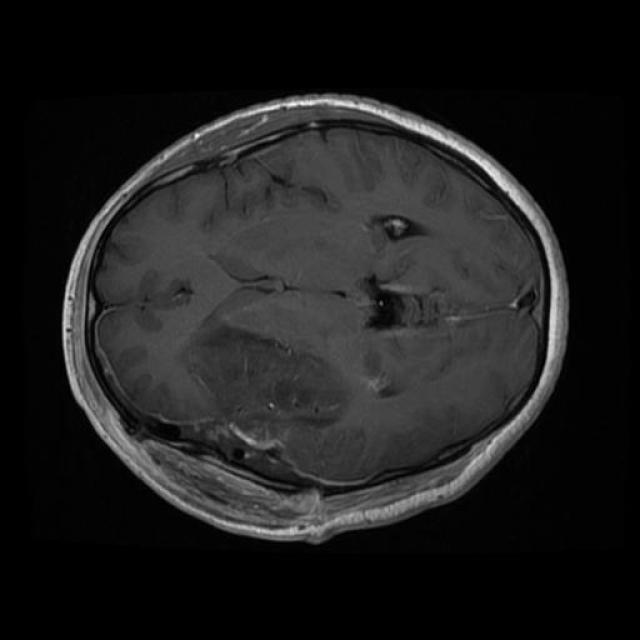Glioma: (187, 324, 347, 485)
